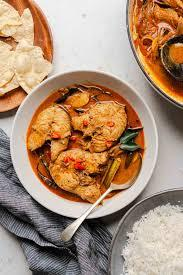Fish Curry: (22, 81, 147, 206)
